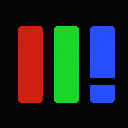3 line_h: (90, 78, 122, 84)
